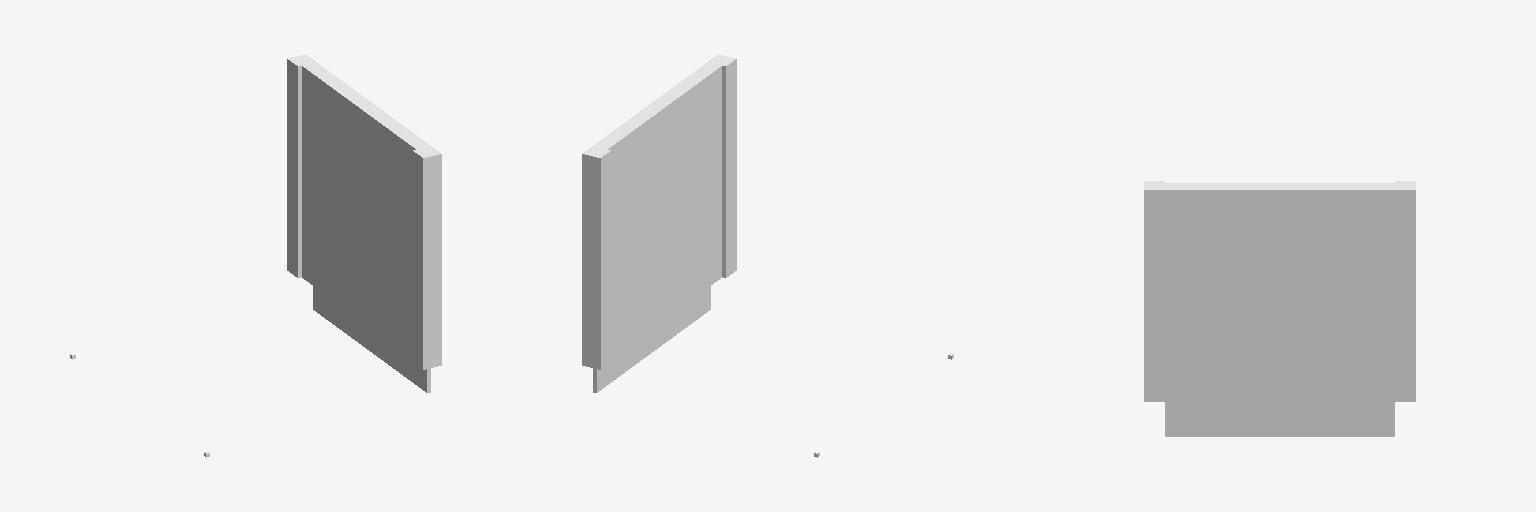
File: Wall-0001.obj
3 renders of one model, left to right at view 1: azimuth 30°, elevation 25°; view 2: azimuth 150°, elevation 25°; view 3: azimuth 270°, elevation 25°, orthographic.
Bounding box in the file's own units: 64 × 64 × 64.